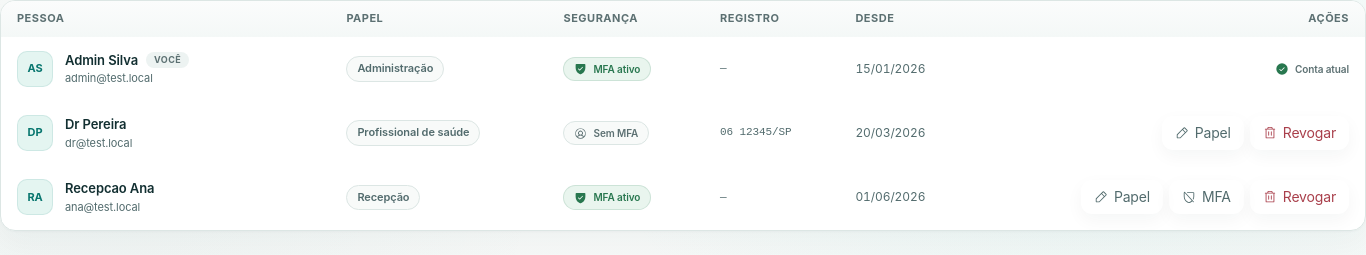
Test: TabelaEquipe › mostra select ao clicar em papel
The width and height of the screenshot is (1366, 255).
Click the button "Papel" in the row of "DP" at coordinates (1203, 133), box [1162,116,1244,150]
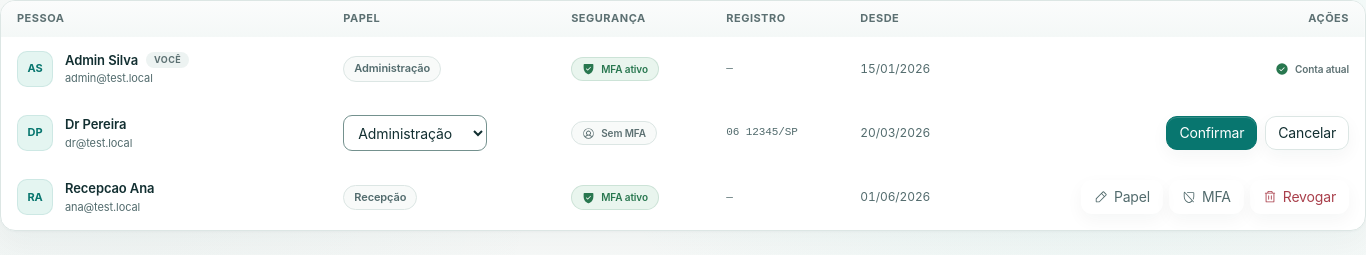
Expected: the dropdown named "novo papel" is shown, [343,115,487,151]
